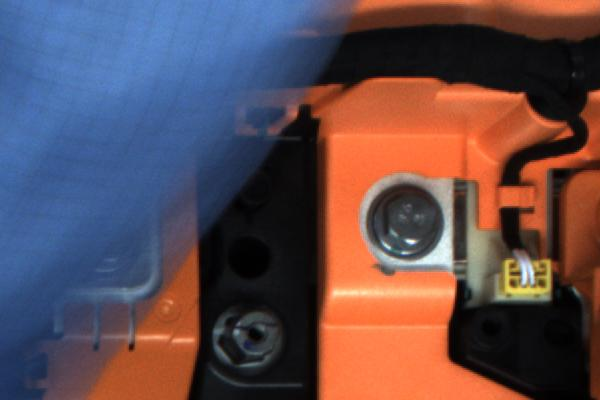nut_b: (363, 175, 451, 266)
